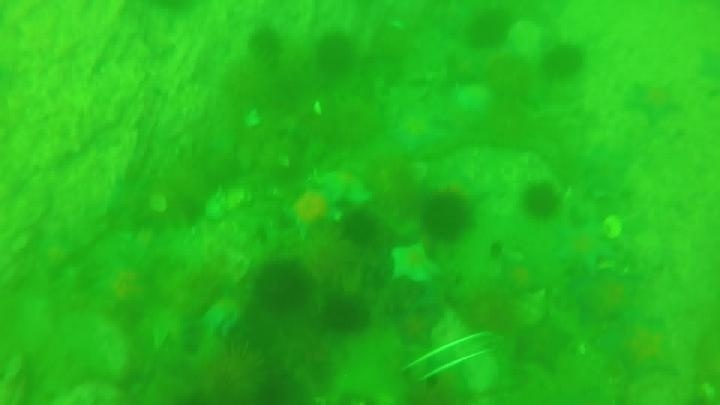echinus: (190, 340, 274, 405), (458, 285, 521, 337), (252, 260, 311, 314), (419, 191, 473, 243), (484, 55, 534, 104), (320, 294, 371, 337), (464, 9, 514, 51), (313, 32, 357, 78), (540, 42, 586, 82), (520, 181, 562, 221), (339, 209, 381, 248), (246, 25, 285, 63), (486, 239, 506, 261)
scallop: (200, 297, 244, 340), (204, 184, 253, 222)
starfish: (598, 315, 683, 384), (93, 252, 168, 321), (513, 313, 575, 374), (554, 223, 617, 275), (287, 184, 344, 238), (624, 79, 683, 127), (311, 165, 375, 207), (30, 230, 81, 282), (387, 112, 445, 155), (388, 242, 441, 286), (393, 305, 443, 349), (497, 256, 544, 298)
